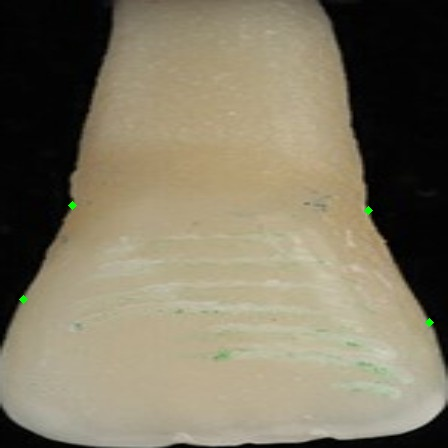coin_1: (72, 205, 92, 225)
coin_2: (23, 299, 43, 319)
coin_3: (368, 210, 388, 230)
coin_4: (429, 322, 448, 342)
